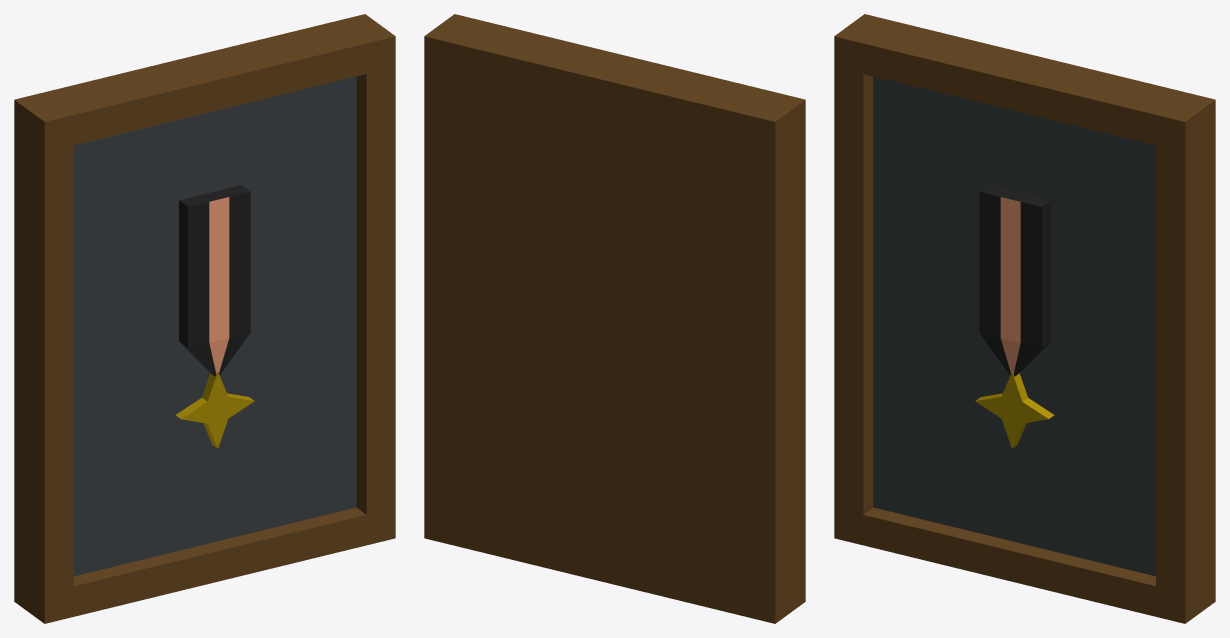
The model's file is WallAwardsV2Black.fbx.
3 renders of one model, left to right at view 1: azimuth 30°, elevation 25°; view 2: azimuth 150°, elevation 25°; view 3: azimuth 330°, elevation 25°, orthographic.
Parts seen in each view (by area): view 1: WallAwardsV2Black; view 2: WallAwardsV2Black; view 3: WallAwardsV2Black.
Boxes of the visible parts, x1,y1,x2,y2 form: WallAwardsV2Black: [14, 14, 395, 623]; WallAwardsV2Black: [424, 14, 805, 623]; WallAwardsV2Black: [834, 14, 1215, 623].
Size of the model in its own units: 18 by 24.59 by 2.71.
